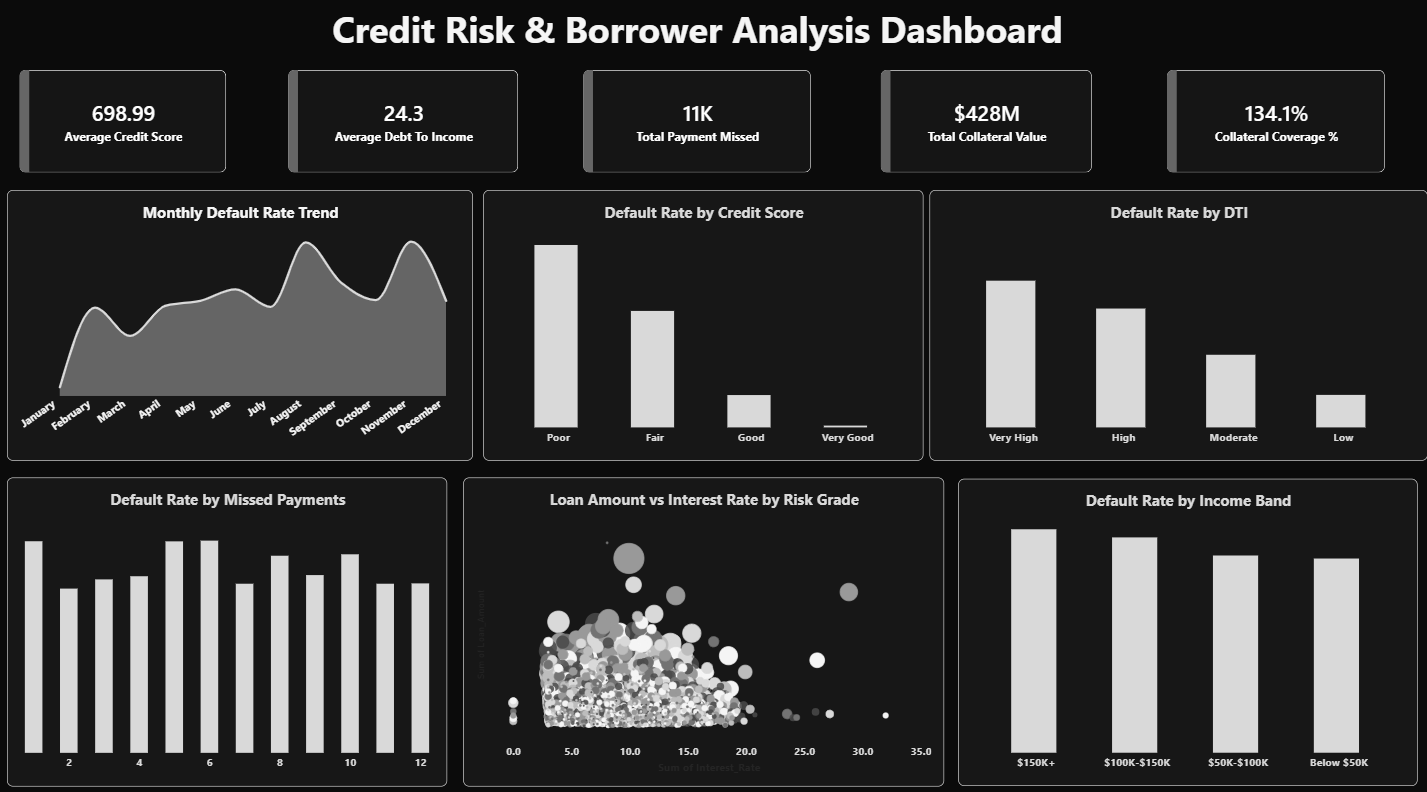

The page's visual inventory and layout, read from the dashboard file:
{"tool":"powerbi","page":{"name":"Default & Risk Analysis","canvas":[1920,1080],"ordinal":1},"visuals":[{"type":"textbox","box":[428.9,18.1,1013.4,74.2],"z":0},{"type":"cardVisual","fields":{"Data":["financial_risk.Average Credit Score"]},"box":[30.8,106.8,276.9,137.5],"z":1000},{"type":"cardVisual","fields":{"Data":["financial_risk.AVERAGE DEBT TO INCOME"]},"box":[389.1,106.8,307.6,137.5],"z":2000},{"type":"cardVisual","fields":{"Data":["financial_risk.Total Payment Missed"]},"box":[783.6,106.8,304,137.5],"z":3000},{"type":"cardVisual","fields":{"Data":["financial_risk.Total Collateral Value"]},"box":[1179.9,106.8,282.3,137.5],"z":4000},{"type":"cardVisual","fields":{"Data":["financial_risk.Collateral Coverage %"]},"box":[1563.5,106.8,291.4,137.5],"z":5000},{"type":"lineChart","title":"Monthly Default Rate Trend","fields":{"Category":["DateTable.Month"],"Y":["financial_risk.Default Rate %"]},"box":[12.7,267.8,622.5,361.9],"z":6000},{"type":"columnChart","title":"Default Rate by Credit Score","fields":{"Category":["financial_risk.Credit Score Band"],"Y":["financial_risk.Default Rate %"]},"box":[649.7,267.8,588.1,361.9],"z":7000},{"type":"columnChart","title":"Default Rate by DTI","fields":{"Y":["financial_risk.Default Rate %"],"Category":["financial_risk.DTI Band"]},"box":[1245,267.8,666,361.9],"z":8000},{"type":"columnChart","title":"Default Rate by Missed Payments","fields":{"Y":["financial_risk.Default Rate %"],"Category":["financial_risk.Payments_Missed"]},"box":[12.7,651.5,588.1,412.6],"z":9000},{"type":"scatterChart","title":"Loan Amount vs Interest Rate by Risk Grade","fields":{"Y":["Sum(financial_risk.Loan_Amount)"],"Series":["financial_risk.Risk_Grade"],"Category":["financial_risk.Loan_ID"],"Size":["Sum(financial_risk.Outstanding_Balance)"],"X":["Sum(financial_risk.Interest_Rate)"]},"box":[622.5,651.5,642.4,412.6],"z":10000},{"type":"columnChart","title":"Default Rate by Income Band","fields":{"Category":["financial_risk.Income Band"],"Y":["financial_risk.Default Rate %"]},"box":[1284.9,653.3,613.5,410.8],"z":11000}]}

Visuals, with their boxes in screenshot pixels (x1, y1, x2, y2), scaled from the page's 1920x1080 canvas onto the 1427x792 screenshot:
textbox: bbox=(319, 13, 1072, 68)
cardVisual - financial_risk.Average Credit Score: bbox=(23, 78, 229, 179)
cardVisual - financial_risk.AVERAGE DEBT TO INCOME: bbox=(289, 78, 518, 179)
cardVisual - financial_risk.Total Payment Missed: bbox=(582, 78, 808, 179)
cardVisual - financial_risk.Total Collateral Value: bbox=(877, 78, 1087, 179)
cardVisual - financial_risk.Collateral Coverage %: bbox=(1162, 78, 1379, 179)
"Monthly Default Rate Trend" lineChart: bbox=(9, 196, 472, 462)
"Default Rate by Credit Score" columnChart: bbox=(483, 196, 920, 462)
"Default Rate by DTI" columnChart: bbox=(925, 196, 1420, 462)
"Default Rate by Missed Payments" columnChart: bbox=(9, 478, 447, 780)
"Loan Amount vs Interest Rate by Risk Grade" scatterChart: bbox=(463, 478, 940, 780)
"Default Rate by Income Band" columnChart: bbox=(955, 479, 1411, 780)
